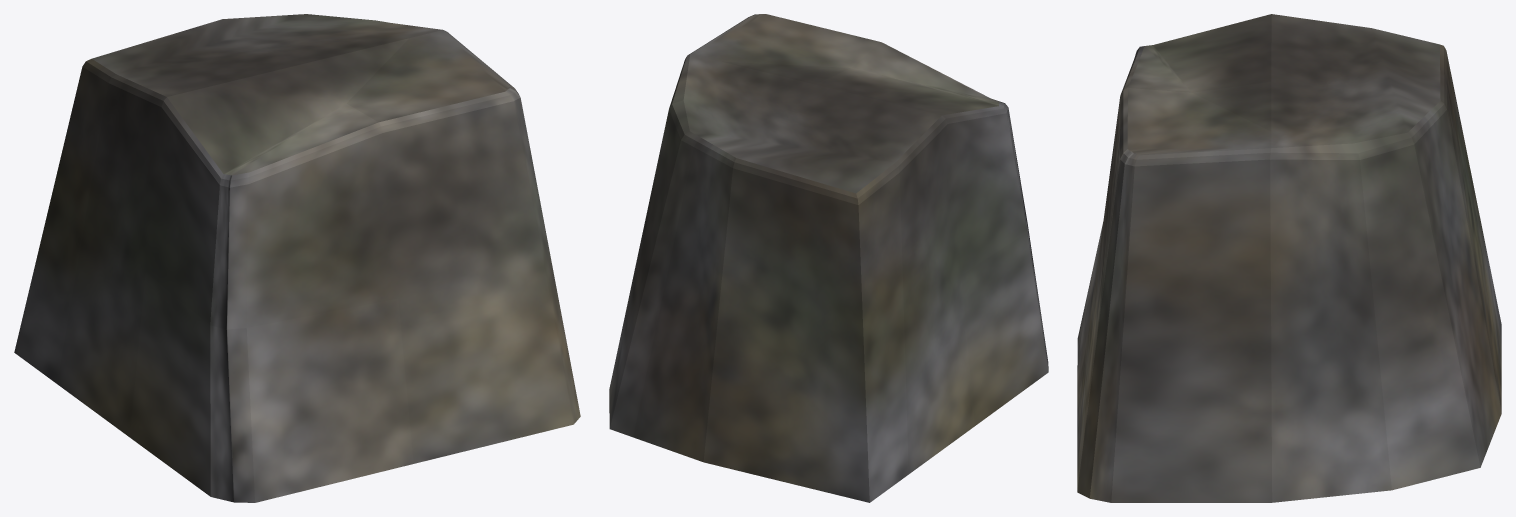
Rendered from Rock.fbx.
The picture shows the model from 3 angles, left to right: view 1: azimuth 30°, elevation 25°; view 2: azimuth 150°, elevation 25°; view 3: azimuth 270°, elevation 25°; orthographic projection. The views are drawn at different scales.
Parts seen in each view (by area): view 1: 立方体; view 2: 立方体; view 3: 立方体.
Part boxes in pixels (x1,y1,x2,y2): 立方体: (14,14,580,502); 立方体: (609,14,1048,502); 立方体: (1077,14,1501,502).
Bounding box in the file's own units: 1.74 × 1.5 × 1.75.
1 material, 1 textured.
